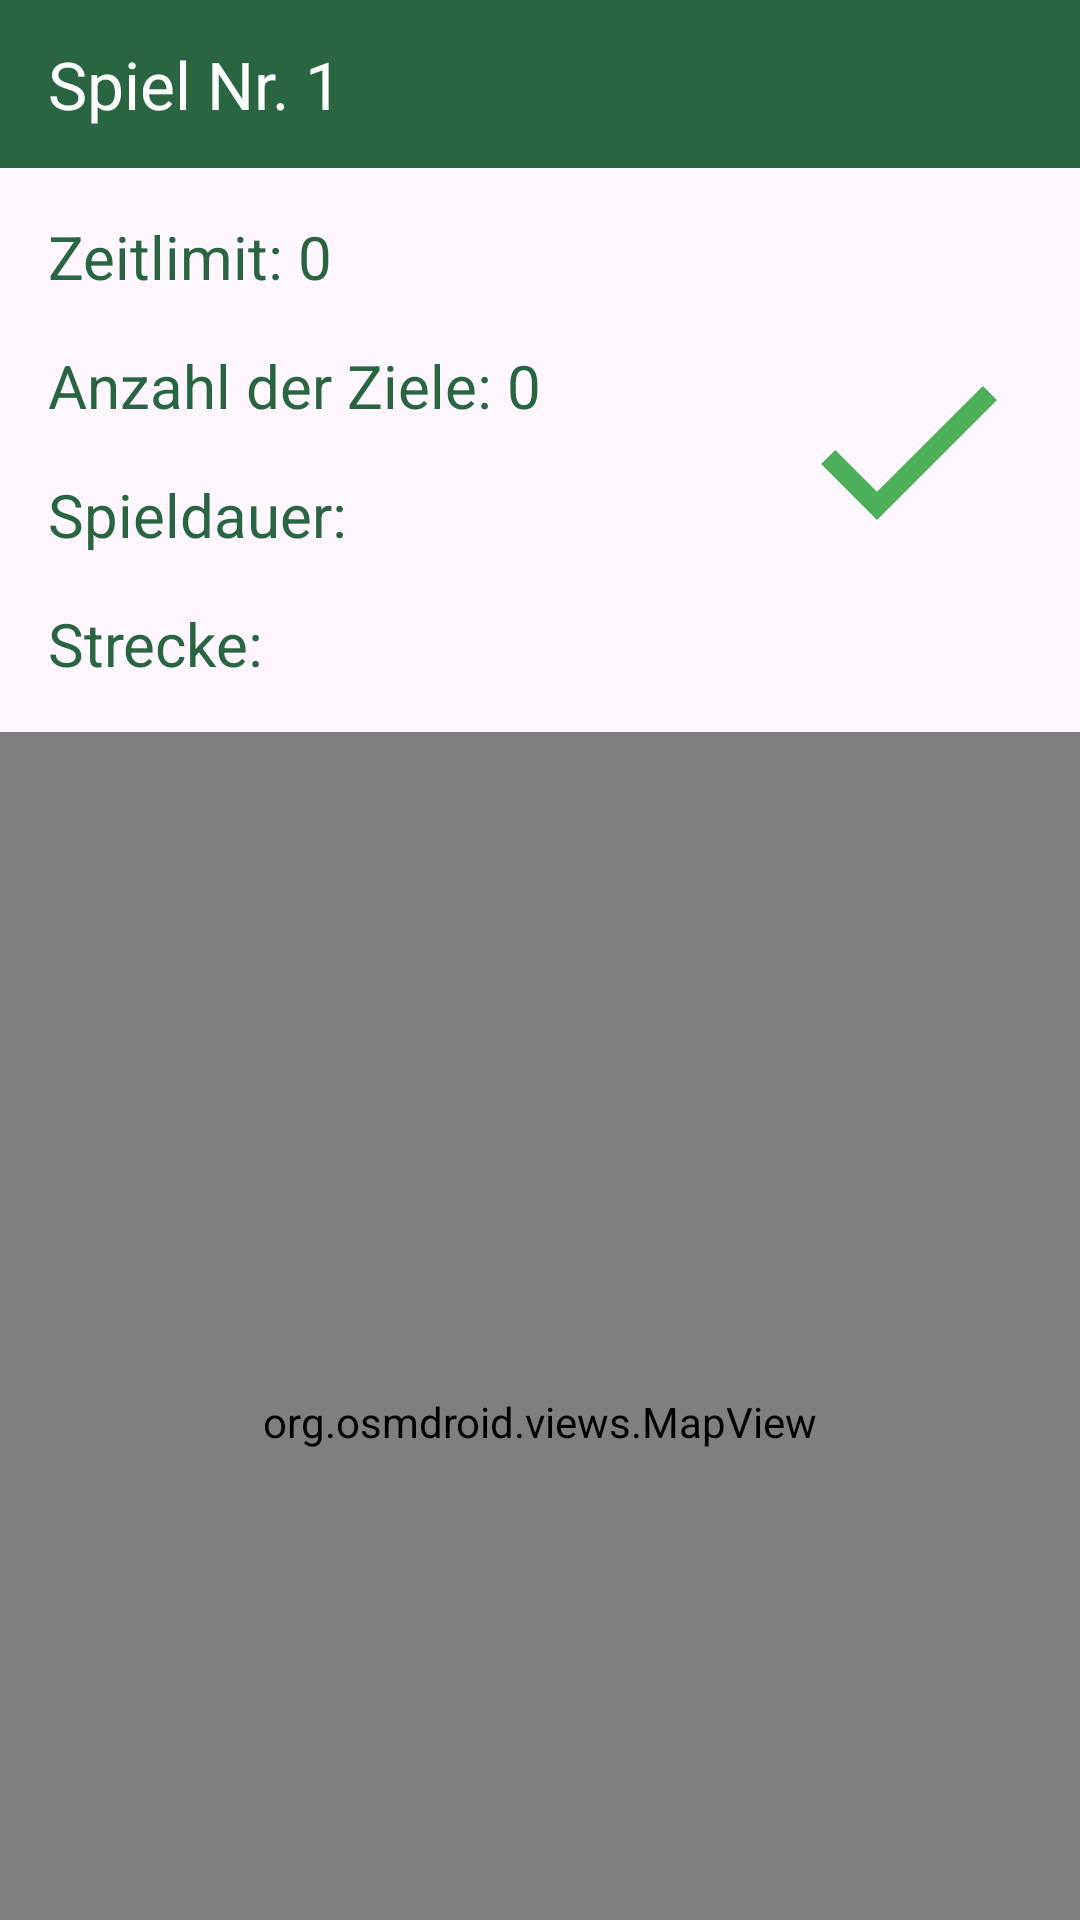

Icon click points for this 1080x1920 phone screenshot, format (x,y):
game successful: (909,453)
